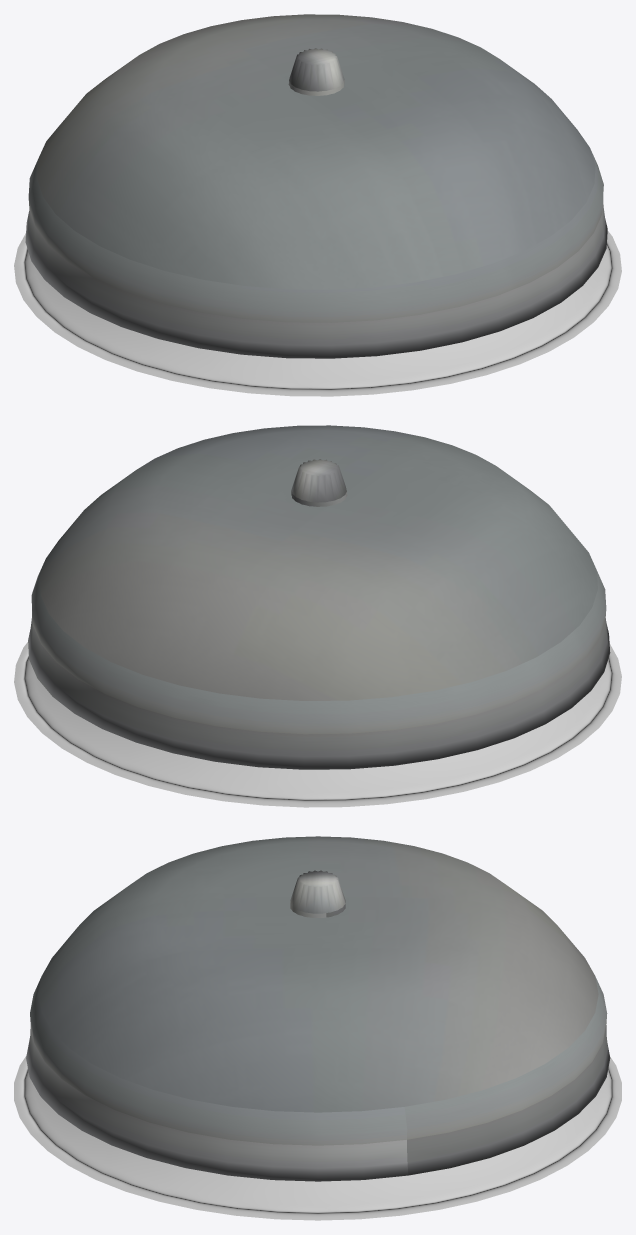
The model's file is hotel bell 1.fbx.
The picture shows the model from 3 angles, top to bottom: view 1: azimuth 30°, elevation 25°; view 2: azimuth 150°, elevation 25°; view 3: azimuth 270°, elevation 25°; orthographic projection.
Parts seen in each view (by area): view 1: pCylinder3, pCylinder1, pCylinder2; view 2: pCylinder3, pCylinder1, pCylinder2; view 3: pCylinder3, pCylinder1, pCylinder2.
Part boxes in pixels (<box>): pCylinder3: <box>25,14,607,358</box>; pCylinder1: <box>14,231,621,396</box>; pCylinder2: <box>288,48,344,95</box>; pCylinder3: <box>28,425,610,769</box>; pCylinder1: <box>14,642,621,807</box>; pCylinder2: <box>291,459,347,506</box>; pCylinder3: <box>26,836,610,1181</box>; pCylinder1: <box>14,1056,621,1220</box>; pCylinder2: <box>290,870,345,917</box>.
Size of the model in its own units: 8.17 by 3.2 by 8.16.
